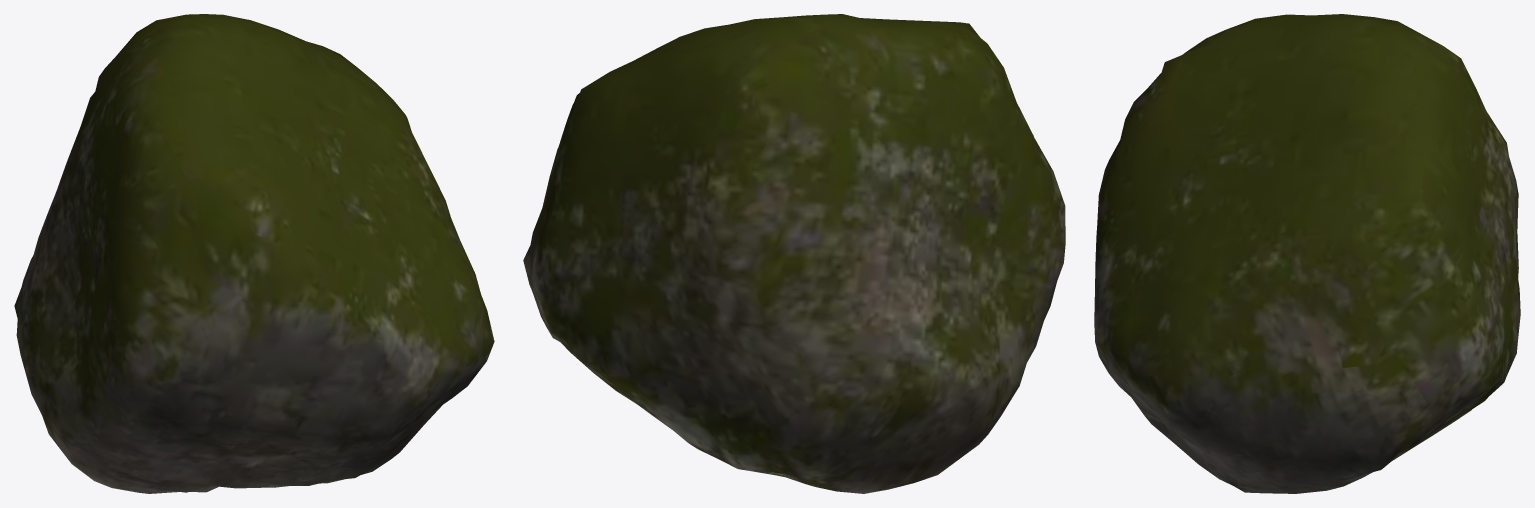
Rendered from rock1-DsVM67l8.glb.
3 views of the same model, side by side, from view 1: azimuth 30°, elevation 25°; view 2: azimuth 150°, elevation 25°; view 3: azimuth 270°, elevation 25° (orthographic). The views are drawn at different scales.
Parts seen in each view (by area): view 1: A_Set; view 2: A_Set; view 3: A_Set.
Boxes of the visible parts, x1=… form: A_Set: x1=14, y1=14, x2=494, y2=493; A_Set: x1=523, y1=14, x2=1065, y2=493; A_Set: x1=1094, y1=14, x2=1520, y2=493.
Size of the model in its own units: 5.46 by 5.41 by 5.04.
1 material, 1 textured.
